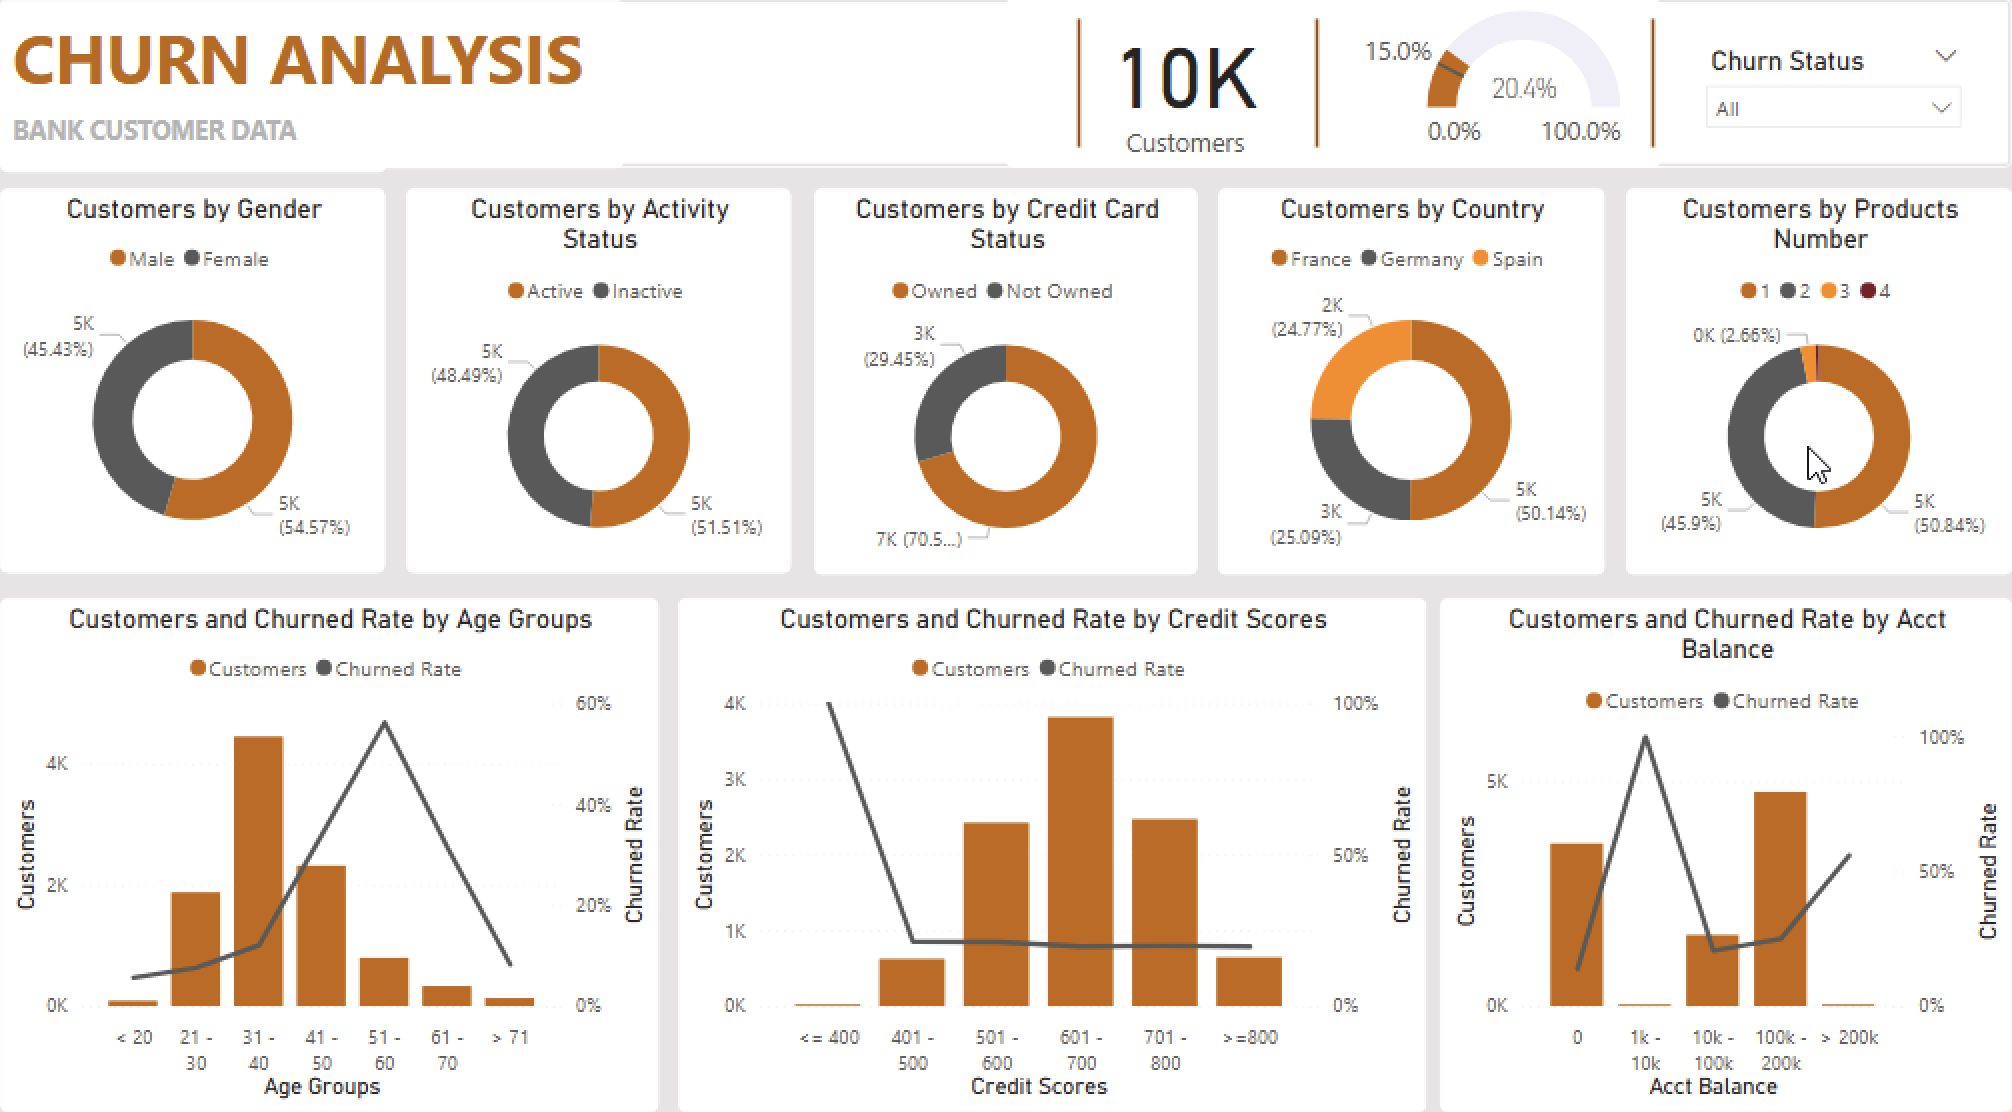

What the dashboard file says about the page in this screenshot:
{"tool":"powerbi","page":{"name":"Page 1","canvas":[1280,720],"ordinal":0},"visuals":[{"type":"shape","box":[0,11.6,1280,108.4],"z":0},{"type":"card","fields":{"Values":["Customer Data.Customers"]},"box":[639.9,11.7,227.7,108.1],"z":1000},{"type":"donutChart","fields":{"Category":["Customer Data.Gender"],"Y":["Customer Data.Customers"]},"box":[0,132.7,245,245],"z":2000},{"type":"donutChart","fields":{"Y":["Customer Data.Customers"],"Category":["Customer Data.Activity Status"]},"box":[258.6,132.7,245,245],"z":3000},{"type":"donutChart","fields":{"Y":["Customer Data.Customers"],"Category":["Customer Data.Credit Card Status"]},"box":[517.2,132.4,244.2,245.5],"z":4000},{"type":"donutChart","fields":{"Y":["Customer Data.Customers"],"Category":["Customer Data.Country"]},"box":[775.1,132.4,245.5,245.5],"z":5000},{"type":"donutChart","fields":{"Y":["Customer Data.Customers"],"Category":["Customer Data.Products Number"]},"box":[1034.2,132.4,245.5,245.5],"z":6000},{"type":"lineClusteredColumnComboChart","fields":{"Category":["Age Groups.Age Groups"],"Y":["Customer Data.Customers"],"Y2":["Customer Data.Churned Rate"]},"box":[0,393.1,418.5,326.9],"z":7000},{"type":"lineClusteredColumnComboChart","fields":{"Y":["Customer Data.Customers"],"Y2":["Customer Data.Churned Rate"],"Category":["Credit Scores Groups.Credit Scores"]},"box":[431.2,393.1,475.8,326.9],"z":8000},{"type":"lineClusteredColumnComboChart","fields":{"Y":["Customer Data.Customers"],"Y2":["Customer Data.Churned Rate"],"Category":["Acct balance Groups.Acct Balance"]},"box":[915.9,393.1,363.8,326.9],"z":9000},{"type":"slicer","fields":{"Values":["Customer Data.Churn Status"]},"box":[1072.3,32.8,188.4,65.8],"z":10000},{"type":"gauge","fields":{"Y":["Customer Data.Churned Rate"],"MinValue":["Min(Customer Data.Min Churn Rate)"],"MaxValue":["Max(Customer Data.Max Churn rate)"],"TargetValue":["Max(Customer Data.Target Churn Rate)"]},"box":[838.7,11.5,218.1,108.4],"z":11000},{"type":"textbox","box":[0,12.7,396.9,106.9],"z":12000},{"type":"textbox","box":[0,76.3,245.5,45.8],"z":13000},{"type":"shape","box":[669.1,21.8,34.3,87.8],"z":14000},{"type":"shape","box":[820.5,21.8,34.3,87.8],"z":15000},{"type":"shape","box":[1034.2,21.8,34.3,87.8],"z":16000}]}

Visuals, with their boxes in screenshot pixels (x1, y1, x2, y2), scaled from the page's 1280x720 canvas onto the 2012x1112 screenshot:
shape: x1=0, y1=18, x2=2011, y2=185
card - Customer Data.Customers: x1=1006, y1=18, x2=1364, y2=185
donutChart - Customer Data.Gender x Customer Data.Customers: x1=0, y1=205, x2=385, y2=583
donutChart - Customer Data.Customers x Customer Data.Activity Status: x1=406, y1=205, x2=792, y2=583
donutChart - Customer Data.Customers x Customer Data.Credit Card Status: x1=813, y1=204, x2=1197, y2=584
donutChart - Customer Data.Customers x Customer Data.Country: x1=1218, y1=204, x2=1604, y2=584
donutChart - Customer Data.Customers x Customer Data.Products Number: x1=1626, y1=204, x2=2011, y2=584
lineClusteredColumnComboChart - Age Groups.Age Groups x Customer Data.Customers: x1=0, y1=607, x2=658, y2=1111
lineClusteredColumnComboChart - Customer Data.Customers x Customer Data.Churned Rate: x1=678, y1=607, x2=1426, y2=1111
lineClusteredColumnComboChart - Customer Data.Customers x Customer Data.Churned Rate: x1=1440, y1=607, x2=2011, y2=1111
slicer - Customer Data.Churn Status: x1=1686, y1=51, x2=1982, y2=152
gauge - Customer Data.Churned Rate x Min(Customer Data.Min Churn Rate): x1=1318, y1=18, x2=1661, y2=185
textbox: x1=0, y1=20, x2=624, y2=185
textbox: x1=0, y1=118, x2=386, y2=189
shape: x1=1052, y1=34, x2=1106, y2=169
shape: x1=1290, y1=34, x2=1344, y2=169
shape: x1=1626, y1=34, x2=1680, y2=169
